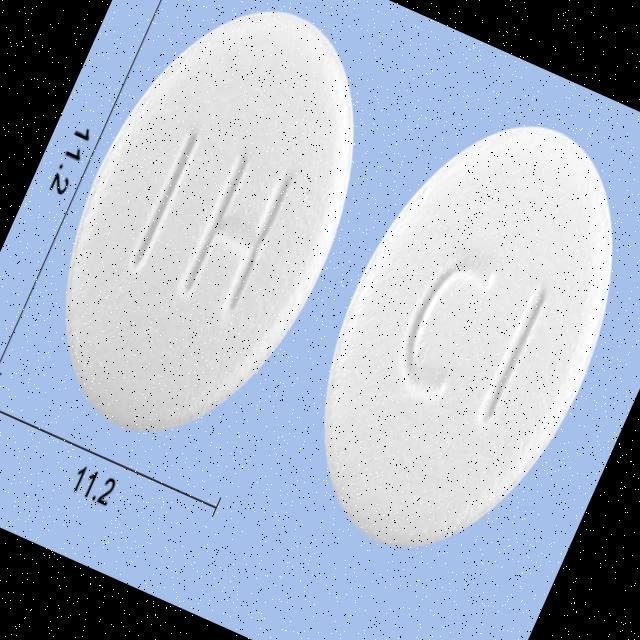Ciroxacin: (0, 0, 421, 483), (259, 69, 640, 598)
